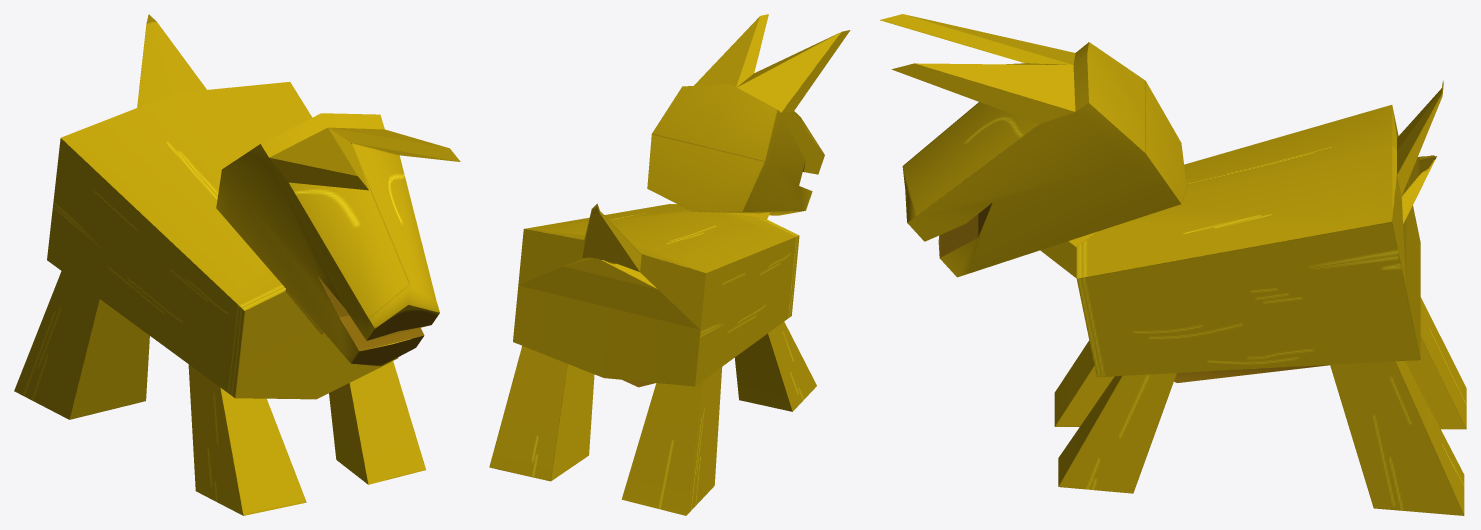
Rendered from corn_dog.fbx.
3 renders of one model, left to right at view 1: azimuth 30°, elevation 25°; view 2: azimuth 150°, elevation 25°; view 3: azimuth 270°, elevation 25°, orthographic. The views are drawn at different scales.
Parts seen in each view (by area): view 1: pCube3; view 2: pCube3; view 3: pCube3.
Boxes of the visible parts, x1,y1,x2,y2 form: pCube3: (14,14,460,515); pCube3: (489,14,850,515); pCube3: (880,14,1466,515).
Size of the model in its own units: 1.53 by 2.31 by 2.98.
Materials: 1 (1 with a texture image).
